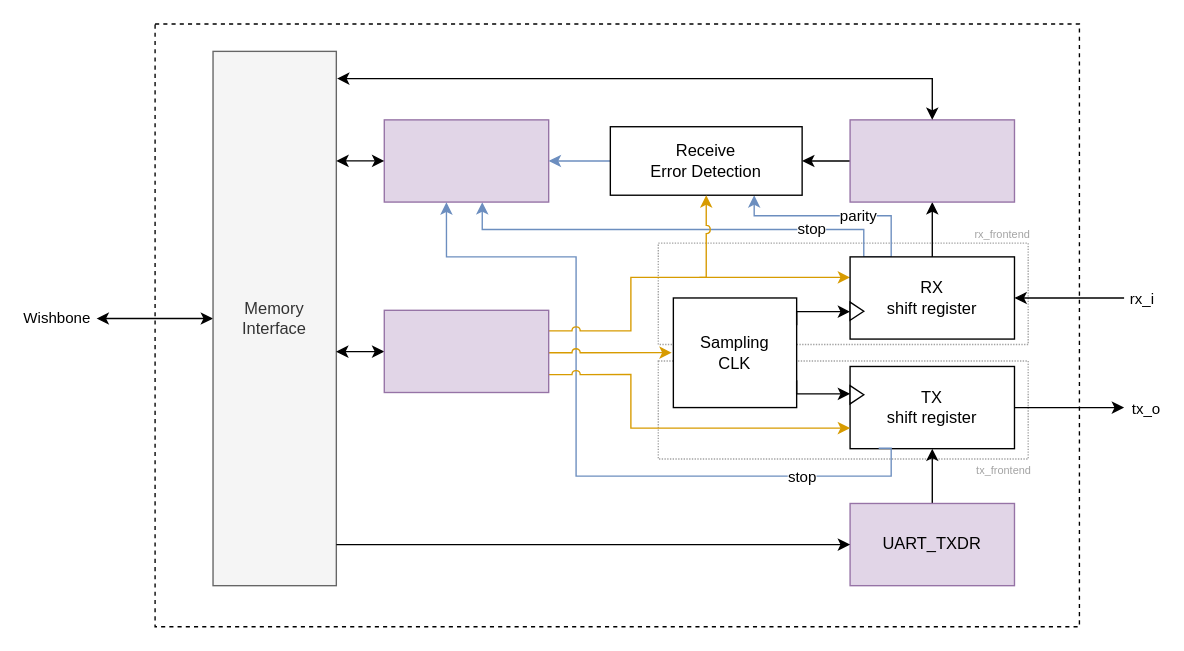
Image size: 1184x651. Some labels were removed from this diagram. Here are the shapes that lost their labels. From the top down, the centre of each, then its label:
At point (466, 160): "UART_SR".
At point (931, 160): "UART_RXDR".
At point (466, 351): "UART_CR".
